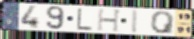4: (19, 5, 41, 30)
9: (45, 6, 66, 31)
H: (97, 8, 124, 33)
I: (129, 9, 140, 34)
L: (76, 7, 94, 32)
Q: (150, 10, 177, 34)
